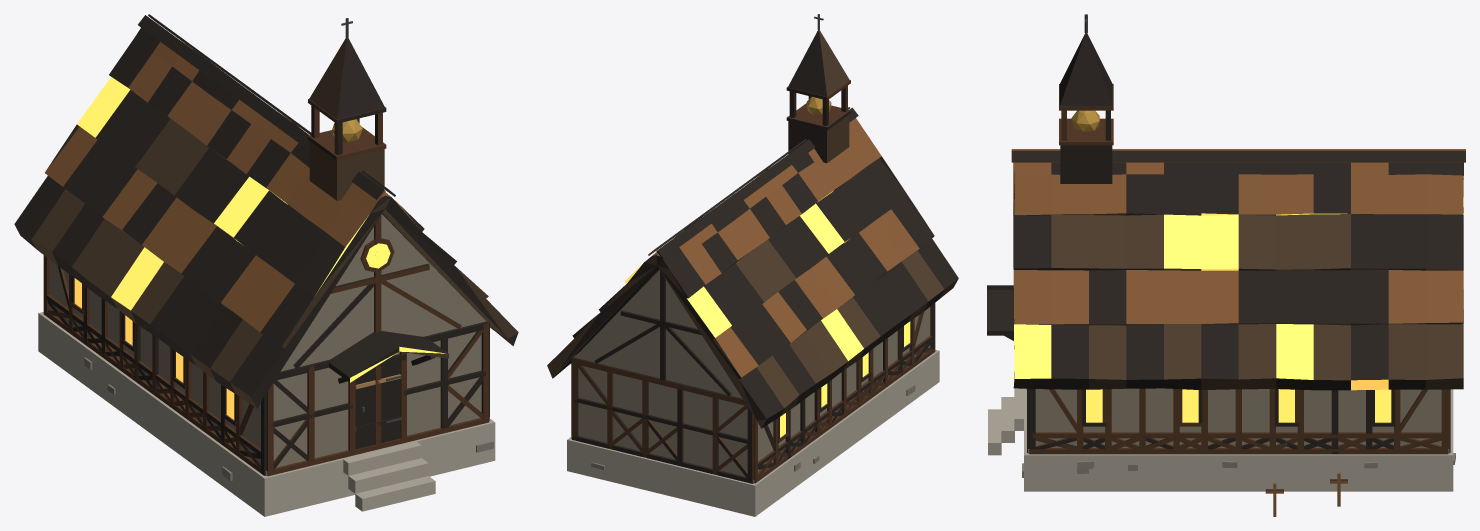
The model's file is Dorf_Kapelle_Beschaedigt.fbx.
3 renders of one model, left to right at view 1: azimuth 30°, elevation 25°; view 2: azimuth 150°, elevation 25°; view 3: azimuth 270°, elevation 25°, orthographic. The views are drawn at different scales.
Parts seen in each view (by area): view 1: Dorf_Kapelle_Beschaedigt; view 2: Dorf_Kapelle_Beschaedigt; view 3: Dorf_Kapelle_Beschaedigt.
Part boxes in pixels (x1=…): Dorf_Kapelle_Beschaedigt: x1=14, y1=14, x2=518, y2=516; Dorf_Kapelle_Beschaedigt: x1=547, y1=14, x2=958, y2=516; Dorf_Kapelle_Beschaedigt: x1=987, y1=14, x2=1465, y2=516.
Bounding box in the file's own units: 8.38 × 11.65 × 11.93.
